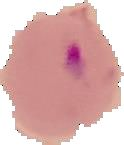parasitized: (62, 29, 119, 93)
